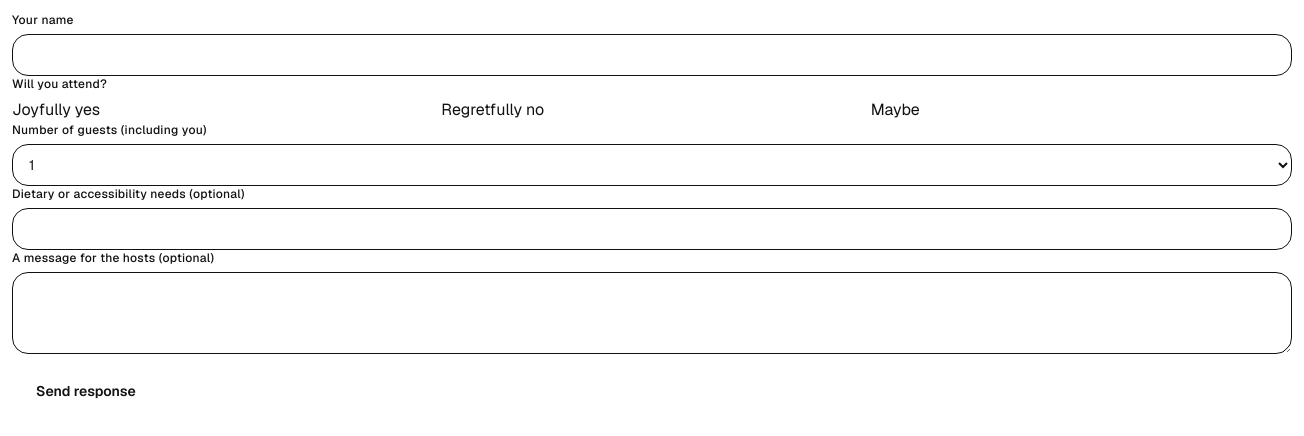
Test: RsvpForm › shows a validation error when the name is missing
Step 1. Click the button "Send response" → coordinates (86, 391), box [12,369,160,413]
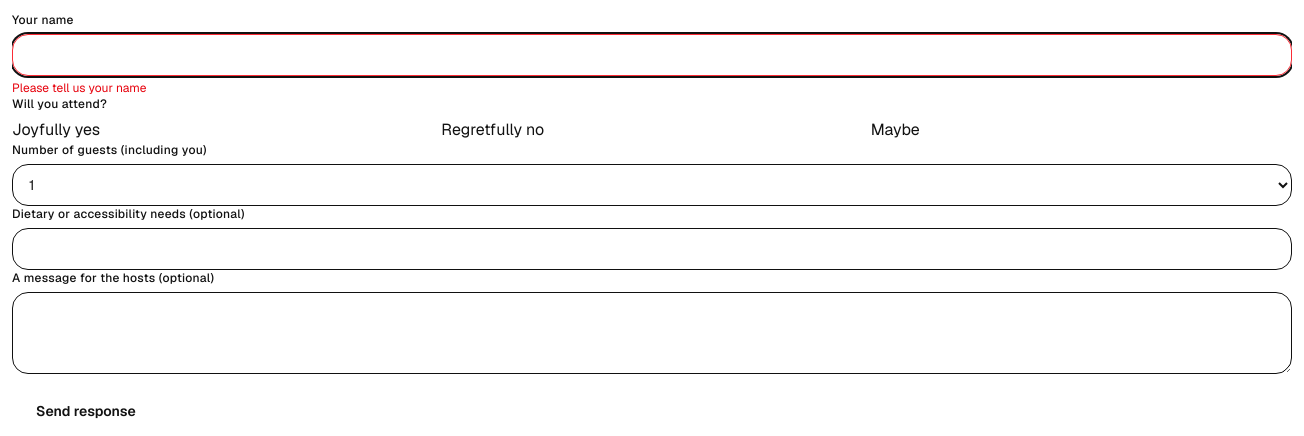
Now the message shows "your name", box [12,80,146,96]
